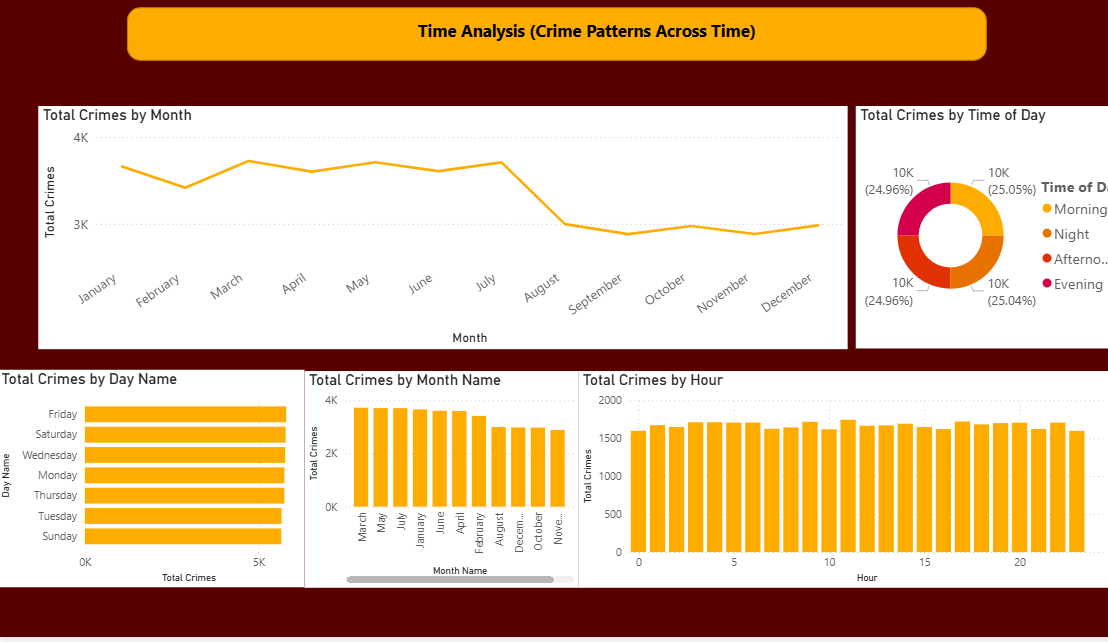

What the dashboard file says about the page in this screenshot:
{"tool":"powerbi","page":{"name":"Page 3","canvas":[1280,720],"ordinal":2},"visuals":[{"type":"shape","box":[145.2,12.7,964.5,59.9],"z":0},{"type":"textbox","box":[466.5,21.2,462.9,42.4],"z":1000},{"type":"lineChart","fields":{"Category":["Crime.Date Reported.Variation.Date Hierarchy.Month"],"Y":["Crime.Total Crimes"]},"box":[46.5,122.8,908.3,273],"z":2000},{"type":"barChart","fields":{"Category":["Crime.Day Name"],"Y":["Crime.Total Crimes"]},"box":[0,419.6,344.5,244.4],"z":3000},{"type":"columnChart","fields":{"Category":["Crime.Month Name"],"Y":["Crime.Total Crimes"]},"box":[344.5,420.8,307.5,243.2],"z":4000},{"type":"clusteredColumnChart","fields":{"Y":["Crime.Total Crimes"],"Category":["Crime.Hour"]},"box":[652,420.8,594.8,243.2],"z":5000},{"type":"donutChart","fields":{"Category":["Crime.Time of Day"],"Y":["Crime.Total Crimes"]},"box":[963.2,124,317.1,271.8],"z":6000}]}

Visuals, with their boxes in screenshot pixels (x1, y1, x2, y2), scaled from the page's 1280x720 canvas onto the 1108x642 screenshot:
shape: <region>126, 11, 961, 65</region>
textbox: <region>404, 19, 805, 57</region>
lineChart - Crime.Date Reported.Variation.Date Hierarchy.Month x Crime.Total Crimes: <region>40, 109, 826, 353</region>
barChart - Crime.Day Name x Crime.Total Crimes: <region>0, 374, 298, 592</region>
columnChart - Crime.Month Name x Crime.Total Crimes: <region>298, 375, 564, 592</region>
clusteredColumnChart - Crime.Total Crimes x Crime.Hour: <region>564, 375, 1079, 592</region>
donutChart - Crime.Time of Day x Crime.Total Crimes: <region>834, 111, 1107, 353</region>
